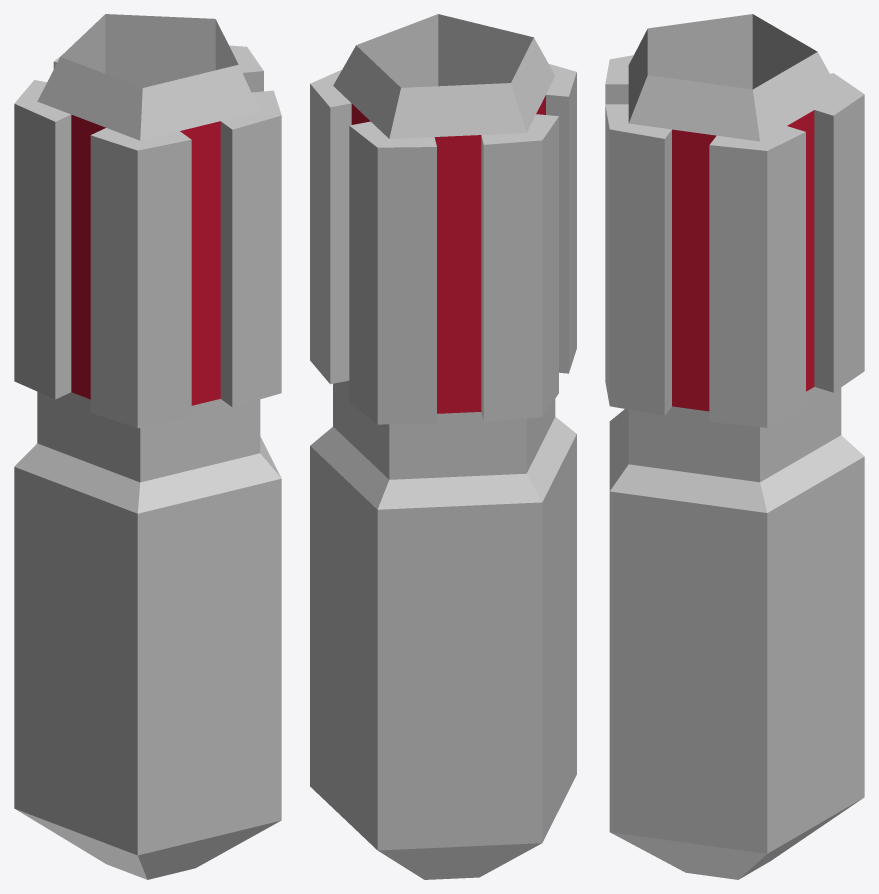
File: CannonBarrel.fbx
The picture shows the model from 3 angles, left to right: view 1: azimuth 30°, elevation 25°; view 2: azimuth 150°, elevation 25°; view 3: azimuth 270°, elevation 25°; orthographic projection.
Visible parts, largest first — view 1: Cylinder.002; view 2: Cylinder.002; view 3: Cylinder.002.
Part boxes in pixels (x1,y1,x2,y2): Cylinder.002: [14, 14, 281, 879]; Cylinder.002: [310, 14, 576, 879]; Cylinder.002: [605, 14, 864, 879].
Bounding box in the file's own units: 57.06 × 190 × 55.23.
